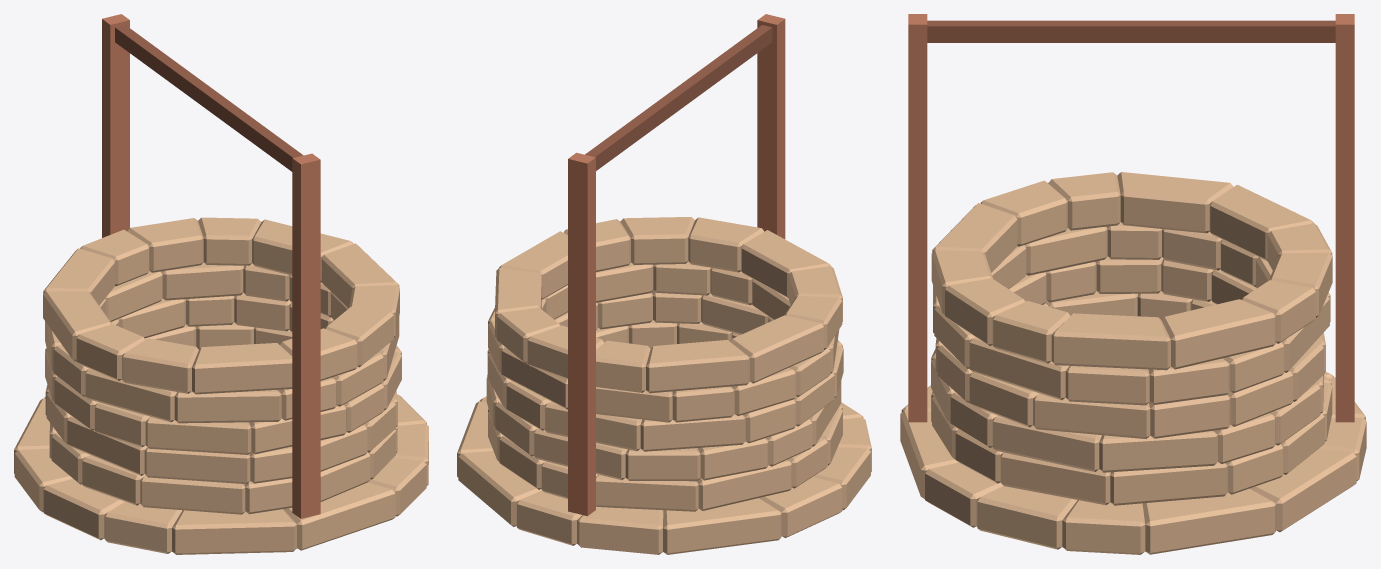
Rendered from Well.fbx.
The picture shows the model from 3 angles, left to right: view 1: azimuth 30°, elevation 25°; view 2: azimuth 150°, elevation 25°; view 3: azimuth 270°, elevation 25°; orthographic projection. The views are drawn at different scales.
Visible parts, largest first — view 1: Well; view 2: Well; view 3: Well.
Boxes of the visible parts, x1,y1,x2,y2 form: Well: (14,14,428,554); Well: (457,14,871,554); Well: (900,14,1366,554).
Size of the model in its own units: 251 by 253 by 248.
